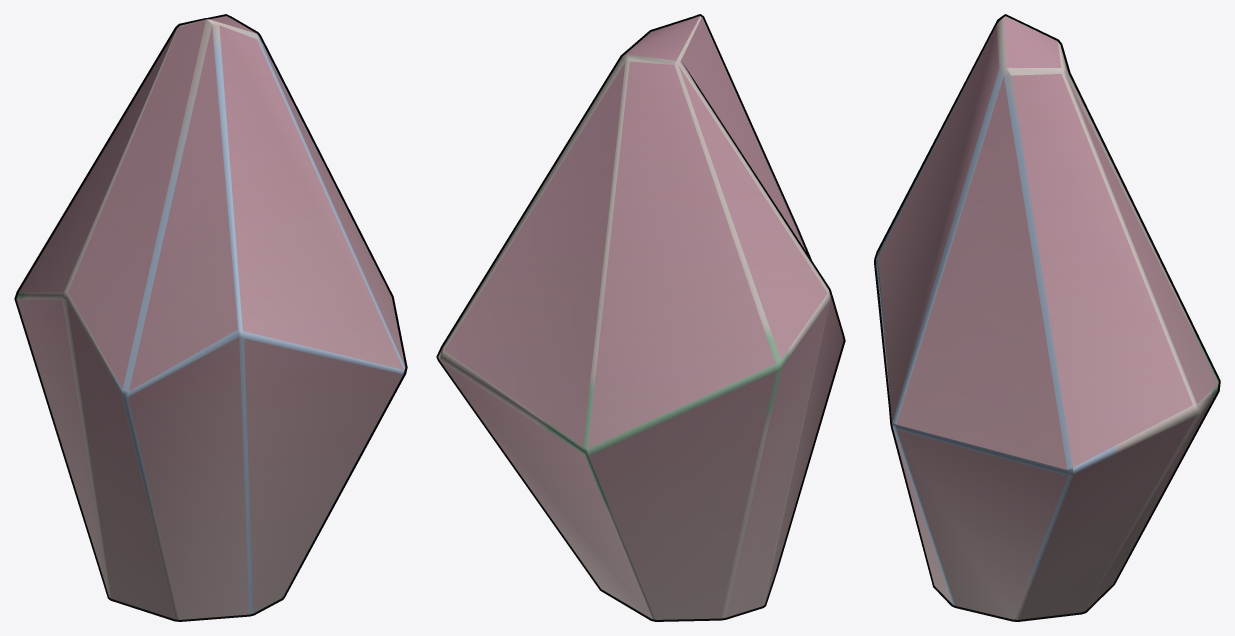
The model's file is Rooms_Paradise_Crystal_Small_03_Art.fbx.
3 renders of one model, left to right at view 1: azimuth 30°, elevation 25°; view 2: azimuth 150°, elevation 25°; view 3: azimuth 270°, elevation 25°, orthographic. The views are drawn at different scales.
Parts seen in each view (by area): view 1: Rooms_Paradise_Crystal_Small_03_Art, Rooms_Paradise_Crystal_Small_03_Outliner; view 2: Rooms_Paradise_Crystal_Small_03_Art, Rooms_Paradise_Crystal_Small_03_Outliner; view 3: Rooms_Paradise_Crystal_Small_03_Art, Rooms_Paradise_Crystal_Small_03_Outliner.
Part boxes in pixels (left/top/right/bottom): Rooms_Paradise_Crystal_Small_03_Art: left=16, top=16, right=405, bottom=619; Rooms_Paradise_Crystal_Small_03_Outliner: left=14, top=14, right=407, bottom=621; Rooms_Paradise_Crystal_Small_03_Art: left=438, top=16, right=843, bottom=619; Rooms_Paradise_Crystal_Small_03_Outliner: left=436, top=14, right=845, bottom=621; Rooms_Paradise_Crystal_Small_03_Art: left=876, top=16, right=1218, bottom=619; Rooms_Paradise_Crystal_Small_03_Outliner: left=874, top=14, right=1220, bottom=621.
Bounding box in the file's own units: 123 × 191 × 105.
